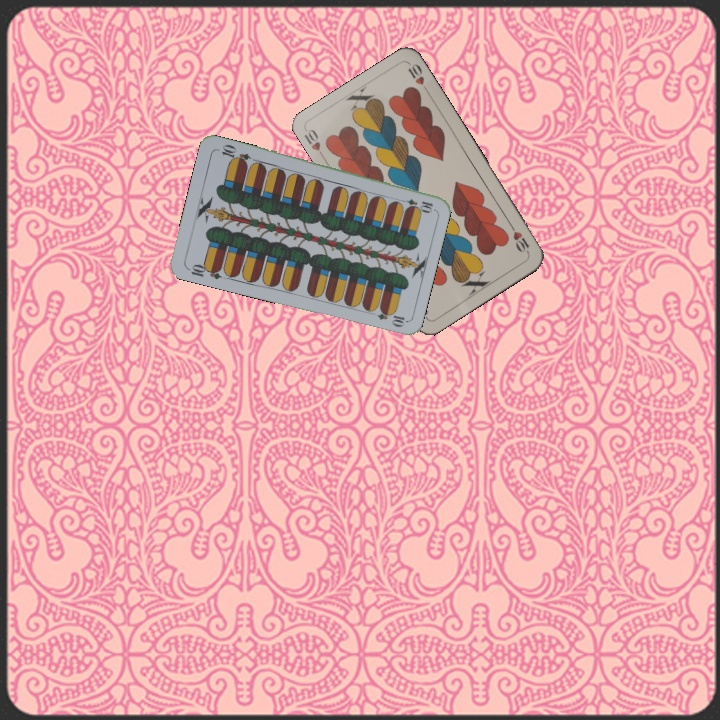E10: (183, 260, 224, 282), (395, 195, 435, 213)
H10: (300, 125, 328, 162), (505, 219, 532, 256)
